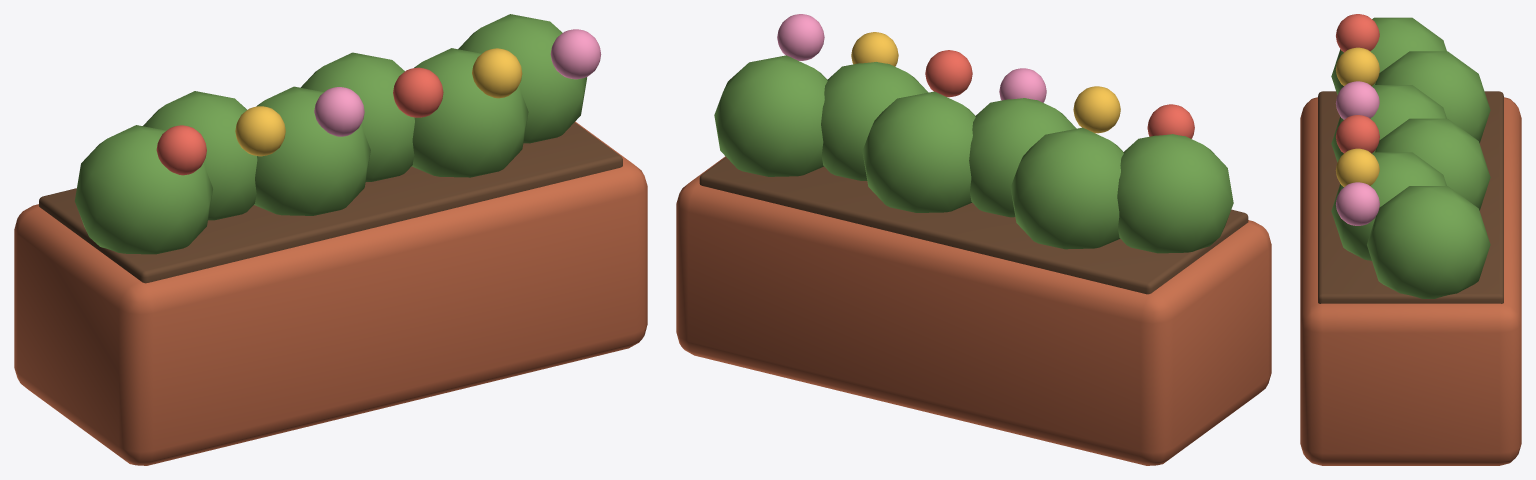
Rendered from prop_planter.glb.
3 views of the same model, side by side, from view 1: azimuth 30°, elevation 25°; view 2: azimuth 150°, elevation 25°; view 3: azimuth 270°, elevation 25° (orthographic). The views are drawn at different scales.
Parts seen in each view (by area): view 1: planter; view 2: planter; view 3: planter.
Part boxes in pixels (x1,y1,x2,y2): planter: [14, 14, 647, 465]; planter: [676, 14, 1271, 465]; planter: [1300, 14, 1521, 465].
Bounding box in the file's own units: 1.2 × 0.67 × 0.5.
4 materials, 4 textured.
